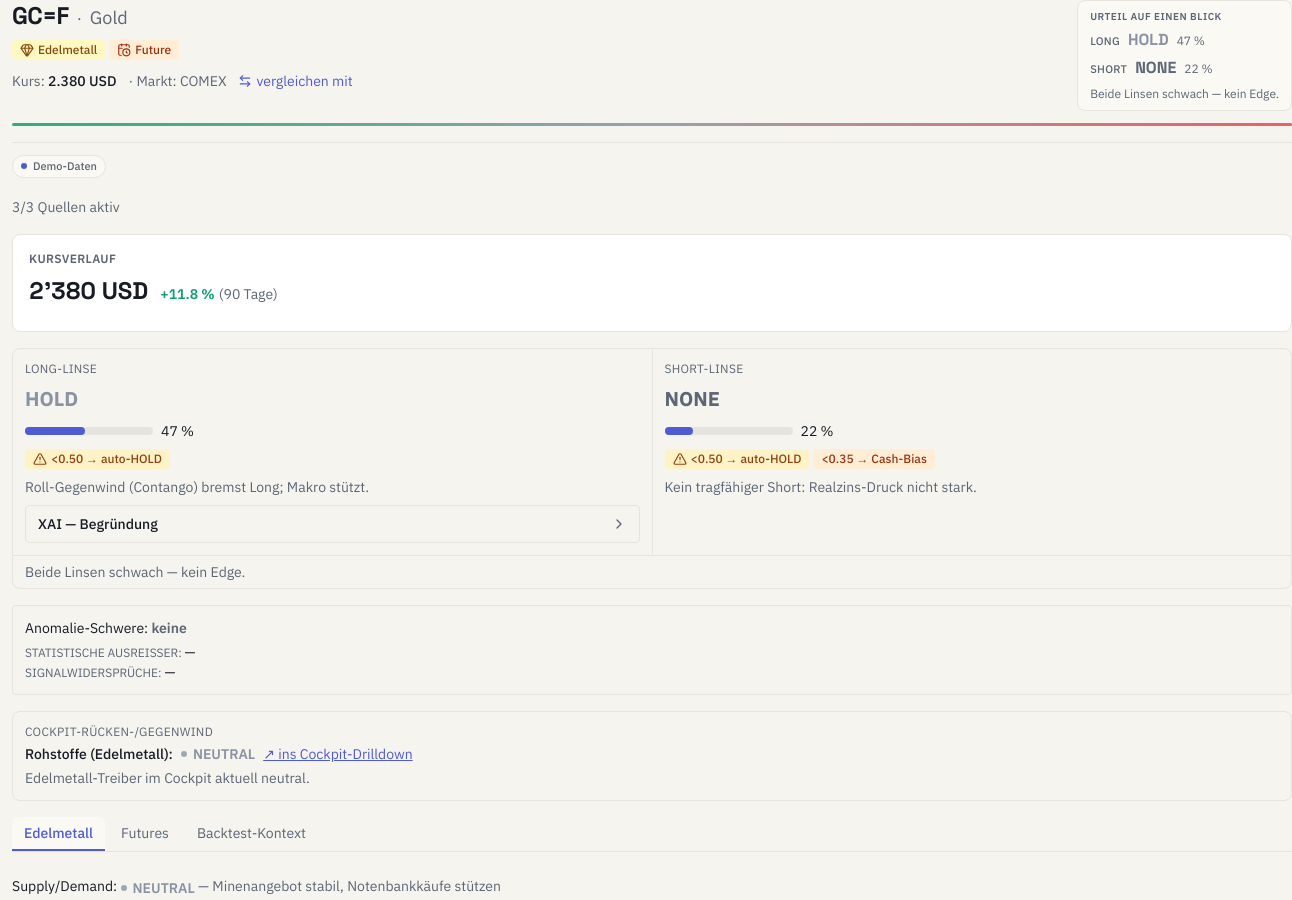
Test: DeepDivePage › future (GC=F): Futures-Tab vorhanden und rendert Terminkurve-Inhalt
Click the tab "Futures": (145, 834) [109,816,181,850]
(page scrolled)
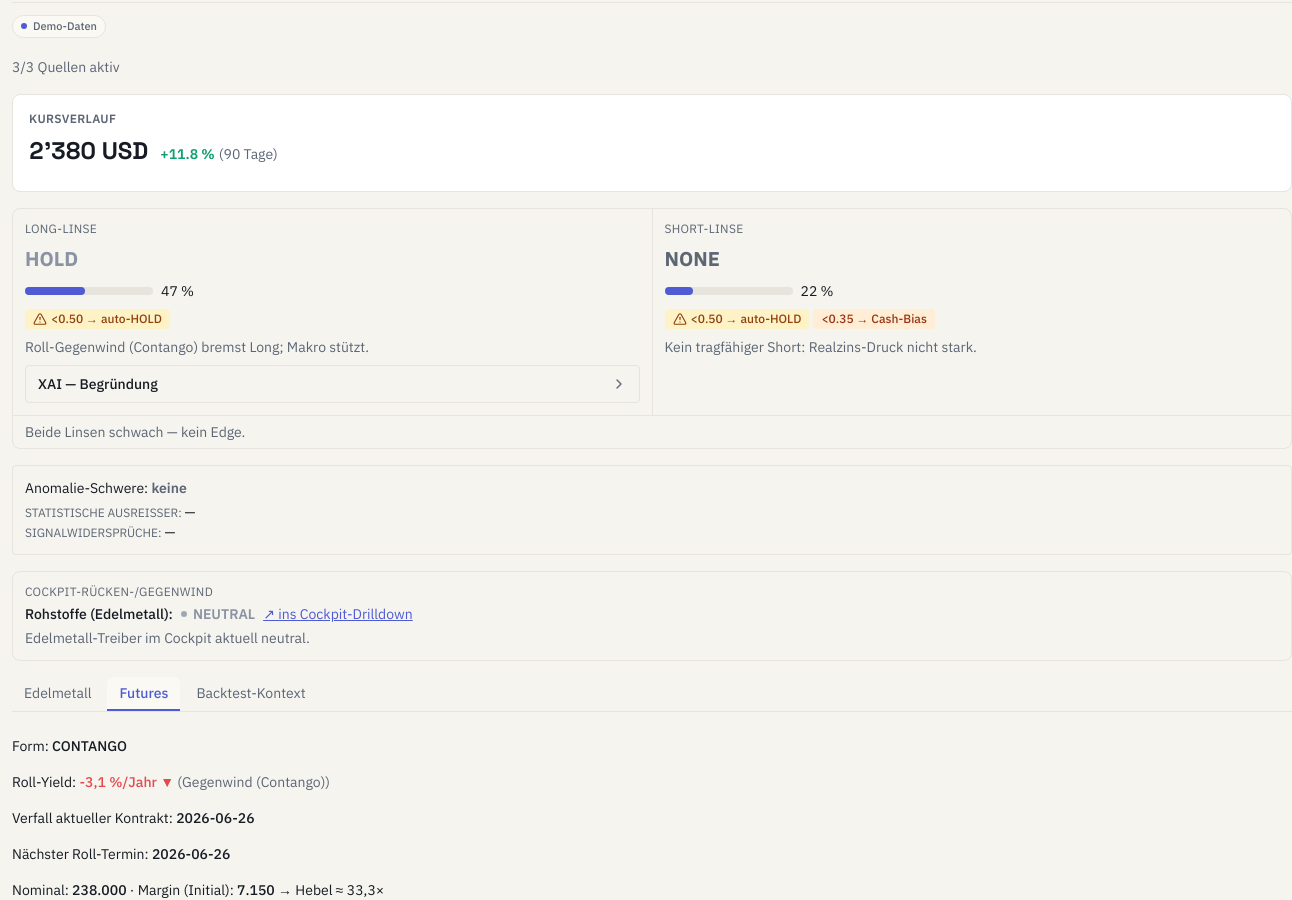
Expected: the text "Roll-Yield: -3,1 %/Jahr ▼ (Gegenwind (Contango))" is shown, [12,772,330,790]
